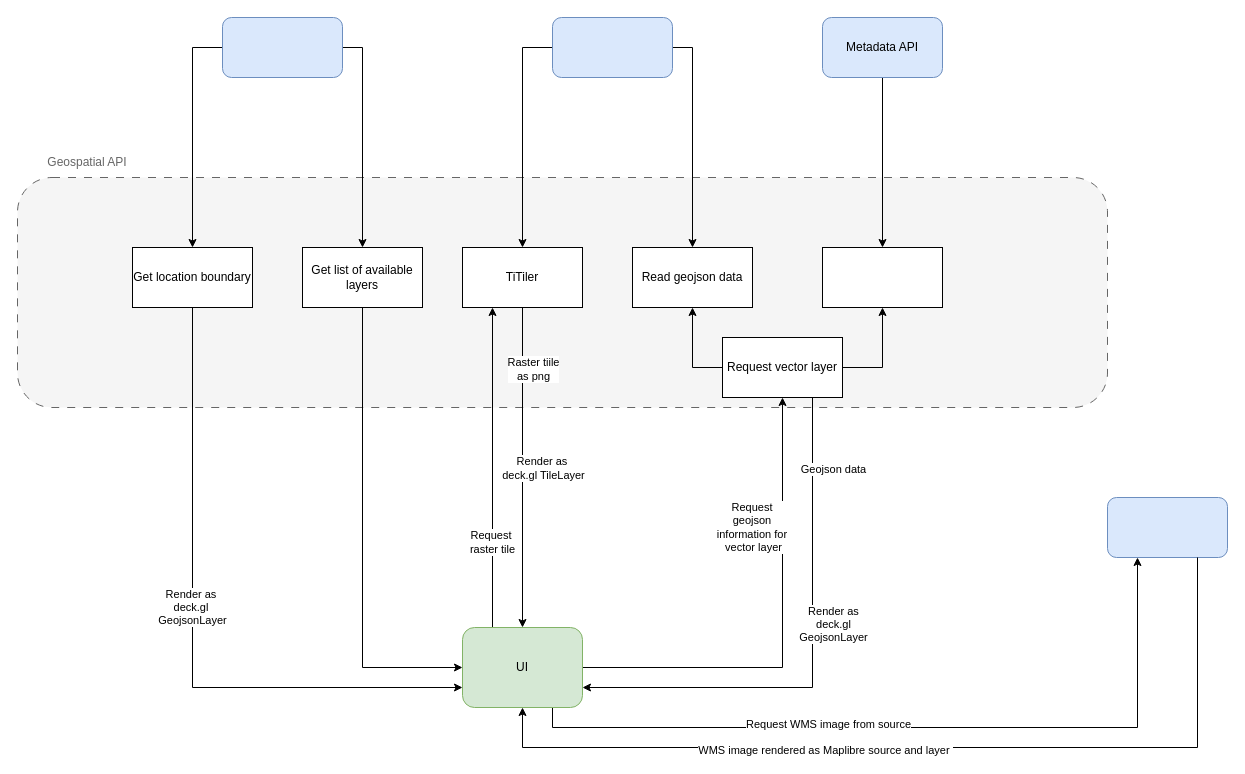
This 1245x774 diagram has some shape labels left out. Each missing label, with the box of its shape:
Construct geojson from metadata api: (822, 246, 942, 308)
PostGIS database: (222, 16, 342, 78)
S3: (552, 16, 672, 78)
WMS source: (1106, 496, 1228, 558)
